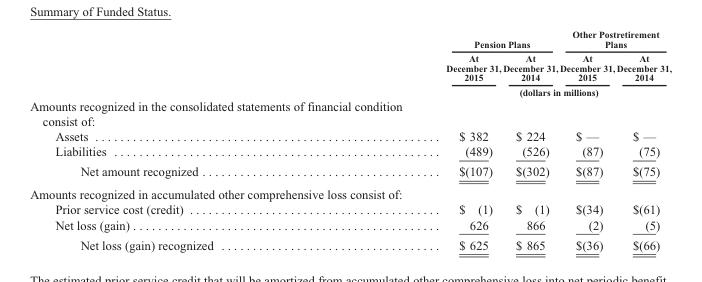table: (29, 28, 671, 251)
table column: (29, 28, 329, 251), (329, 28, 501, 251), (501, 28, 558, 251), (558, 28, 615, 251), (615, 28, 671, 251)
table column header: (29, 28, 671, 97)
table projected row header: (29, 97, 671, 128), (29, 182, 671, 201)
table row: (29, 50, 671, 84), (29, 97, 671, 128), (29, 28, 671, 50), (29, 161, 671, 182), (29, 182, 671, 201), (29, 143, 671, 161), (29, 216, 671, 234), (29, 234, 671, 251), (29, 128, 671, 143), (29, 201, 671, 216), (29, 84, 671, 97)
table spanning cell: (329, 28, 558, 50), (329, 84, 671, 97), (558, 28, 671, 50)
